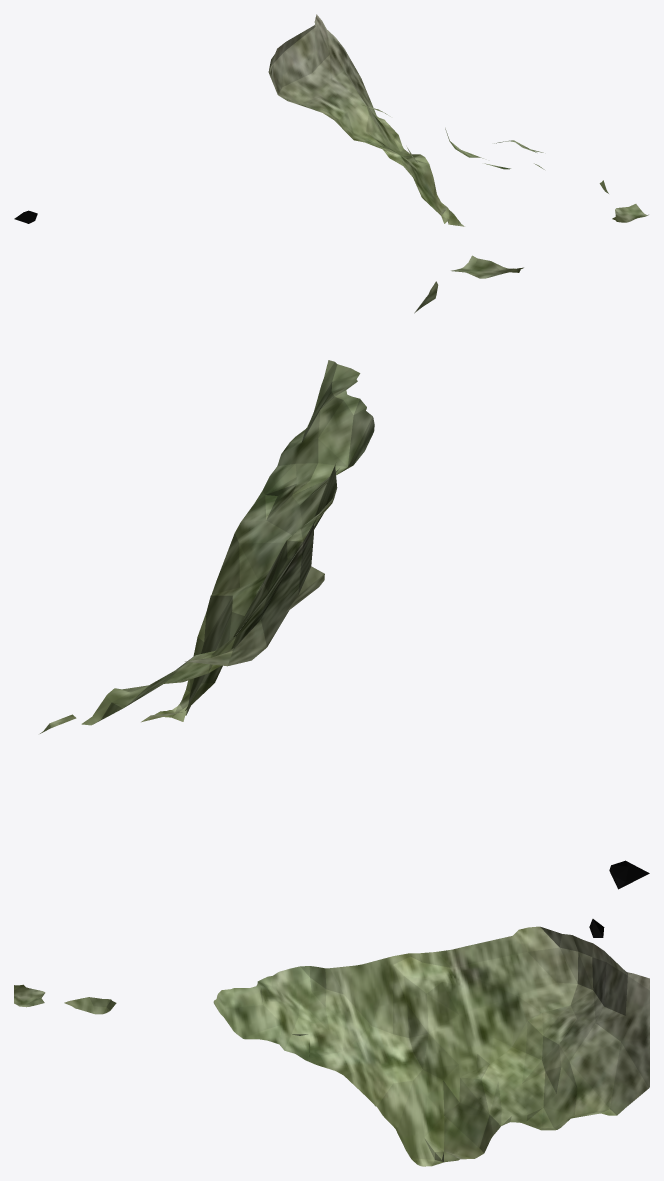
3 views of the same model, one above another, from view 1: azimuth 30°, elevation 25°; view 2: azimuth 150°, elevation 25°; view 3: azimuth 270°, elevation 25° (orthographic). The views are drawn at different scales.
Bounding box in the file's own units: 4.42 × 1.69 × 5.9.
1 material, 1 textured.
